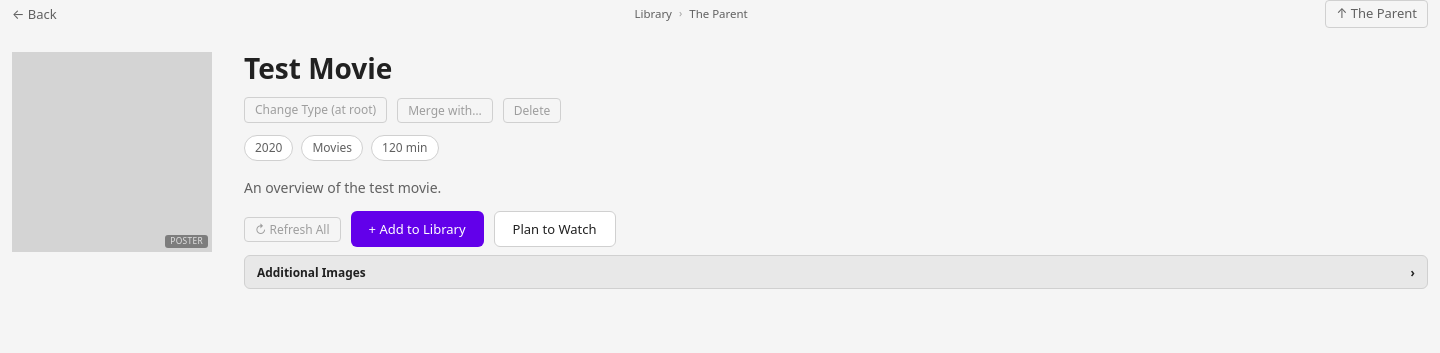
Test: MediaDetailPage › after deleting a child item, goes up one level to its parent, not the Library
This screenshot has width=1440, height=353.
Check: the heading "Test Movie" is shown, box [244, 48, 392, 86]
Step 1. Click the button "Delete" → click(532, 110), box [503, 98, 561, 123]
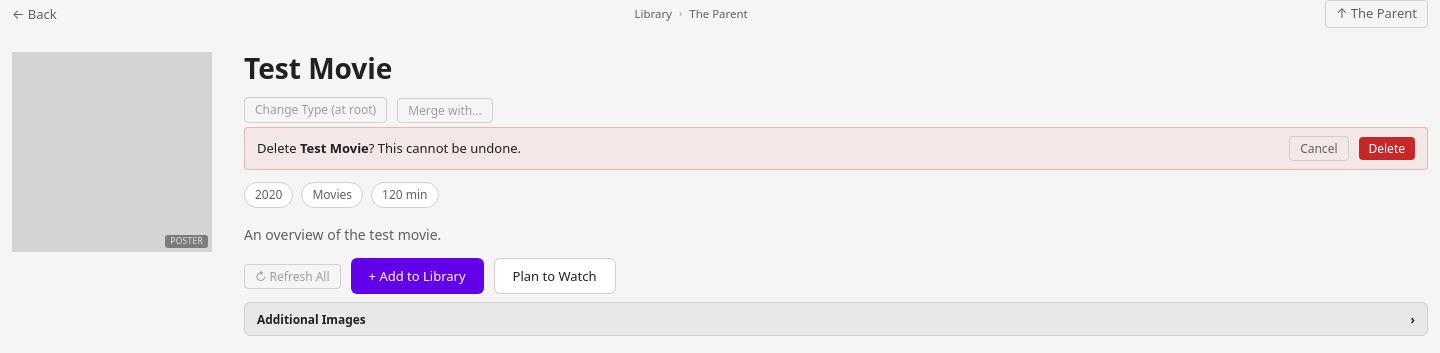
Step 2. Click the button "Delete" → click(1387, 149), box [1358, 137, 1415, 160]
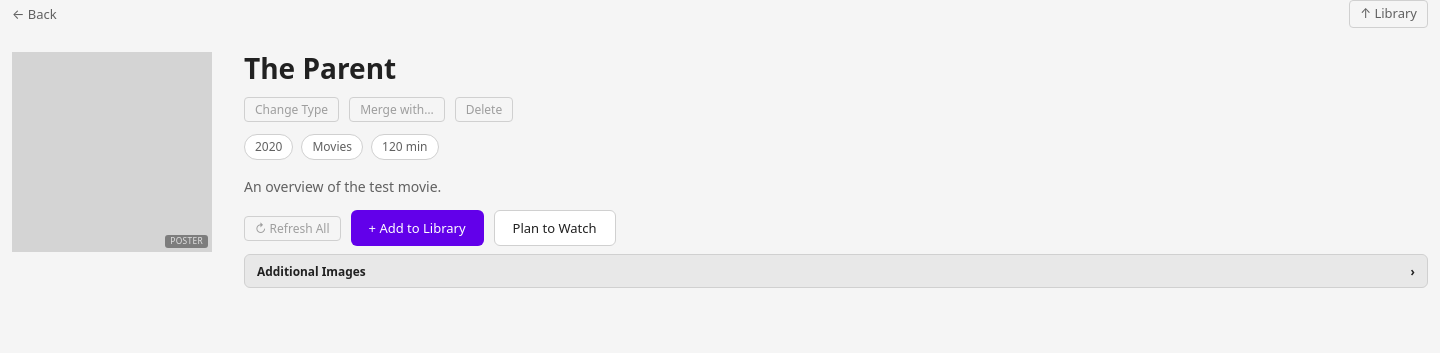
Check: the heading "The Parent" is shown, box [244, 48, 396, 86]
Check: the text "This cannot be undone" is gone
Check: the button "Cancel" is gone
